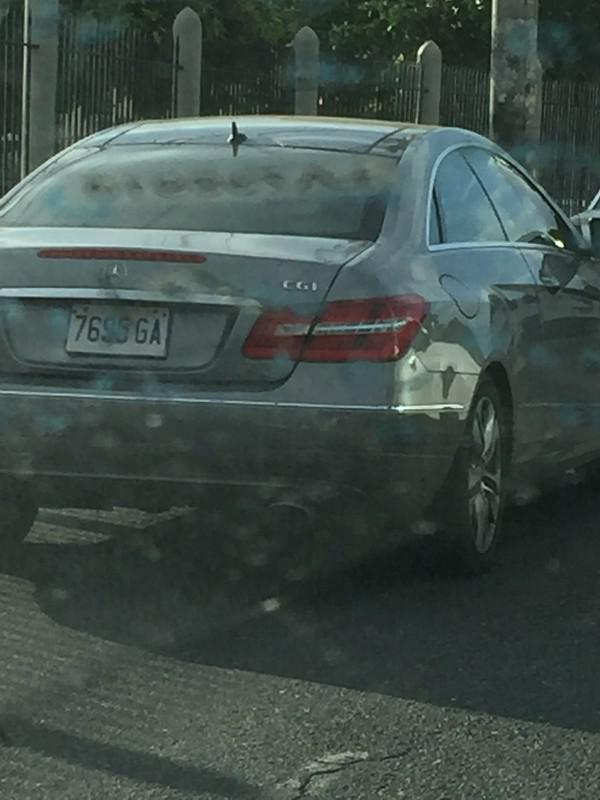rear-bumper-dent: (0, 363, 365, 498)
